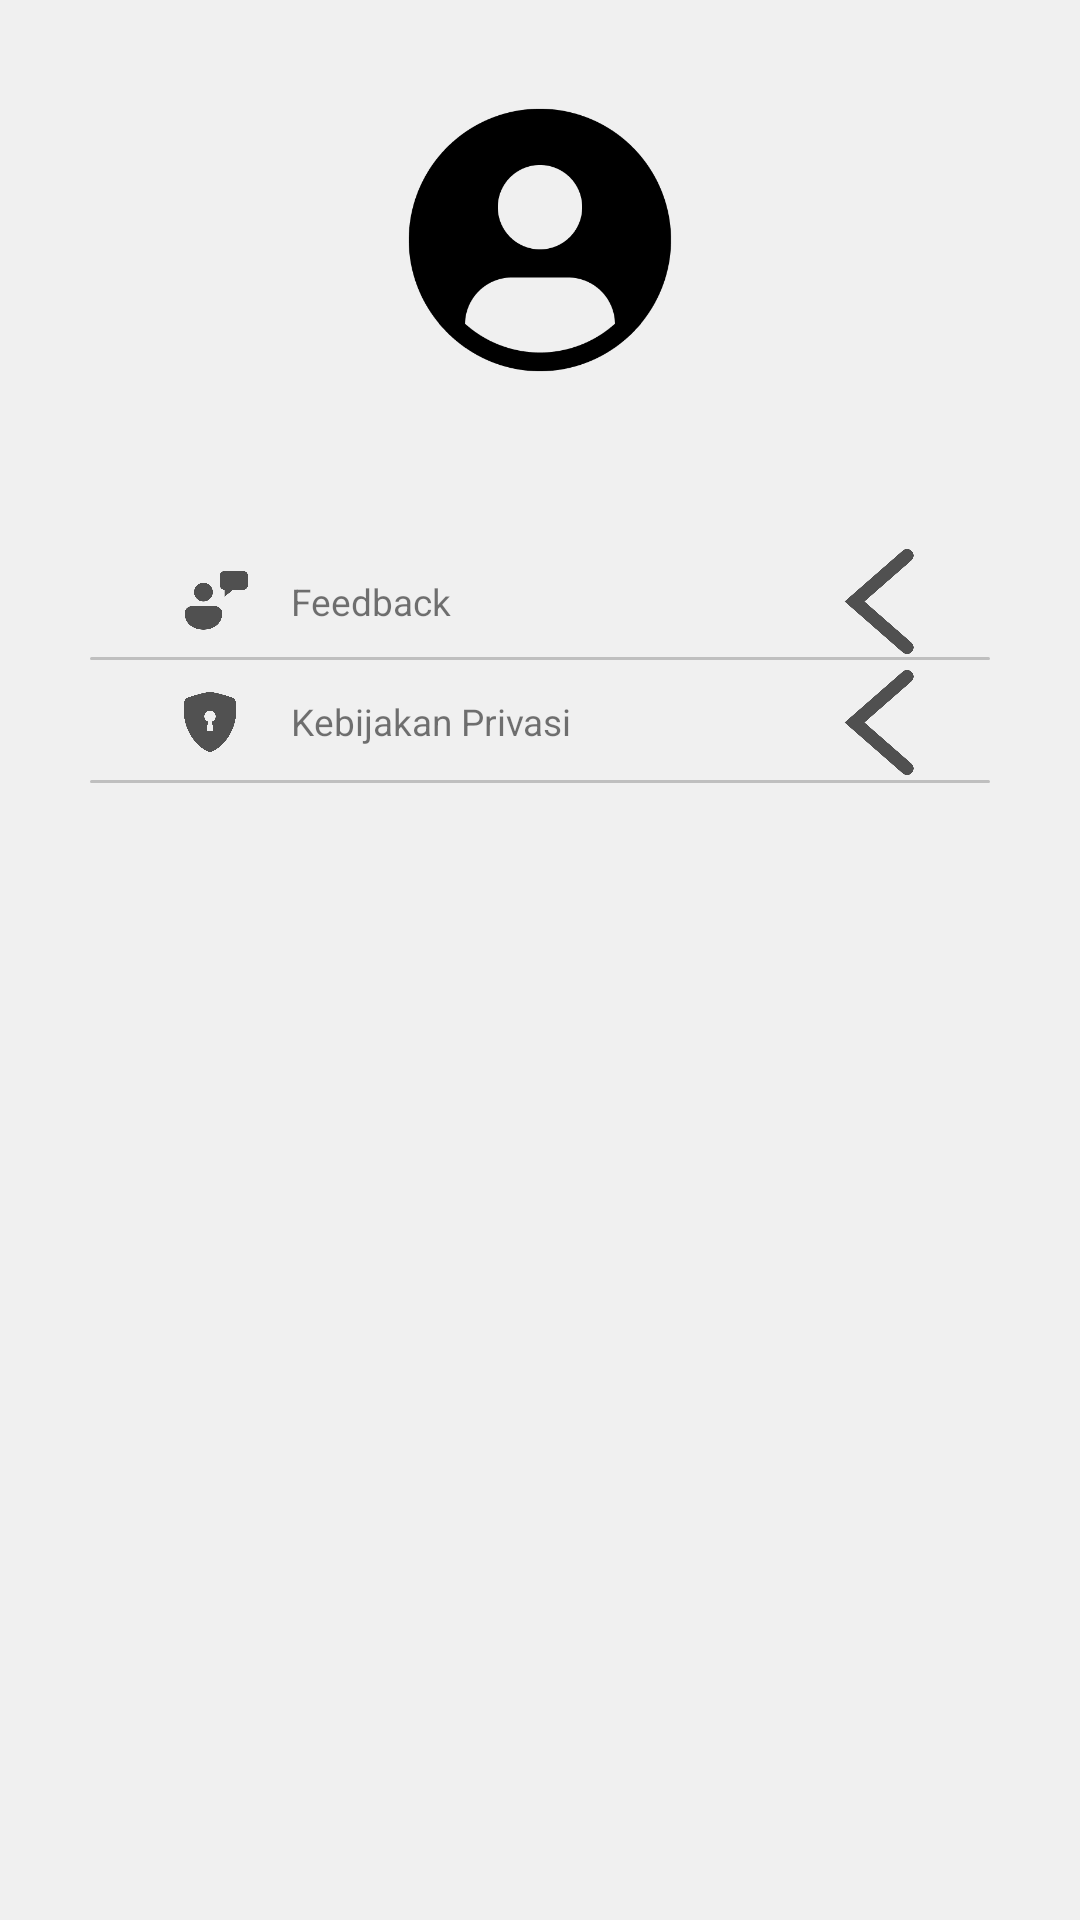

Icon bounding boxes for this 1080*1920 phone screenshot, format (x1, y1, x2, y2):
arrow: (845, 549, 914, 654), (845, 670, 914, 775)
feedbsck: (185, 571, 248, 630)
privavi: (184, 692, 236, 752)
